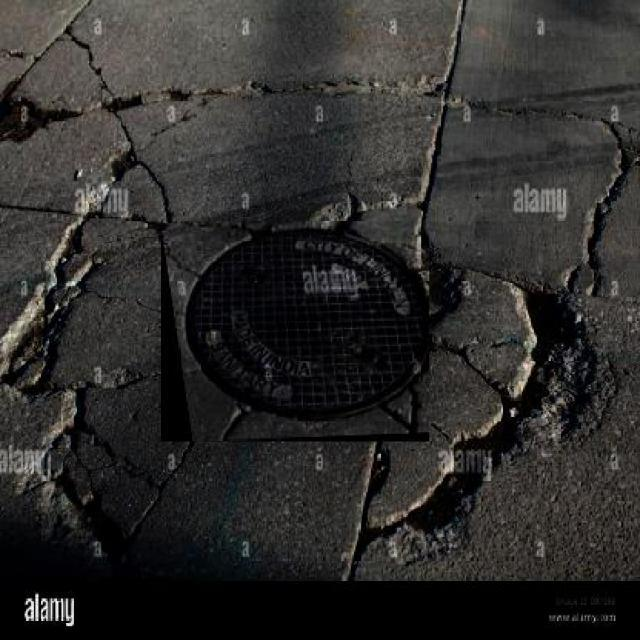Manhole: (160, 220, 429, 442)
Pothole: (480, 272, 640, 461), (332, 456, 544, 590), (20, 412, 188, 570), (9, 202, 132, 398), (113, 70, 454, 131), (554, 123, 640, 271), (0, 58, 94, 164), (419, 246, 491, 328), (94, 152, 160, 195)
